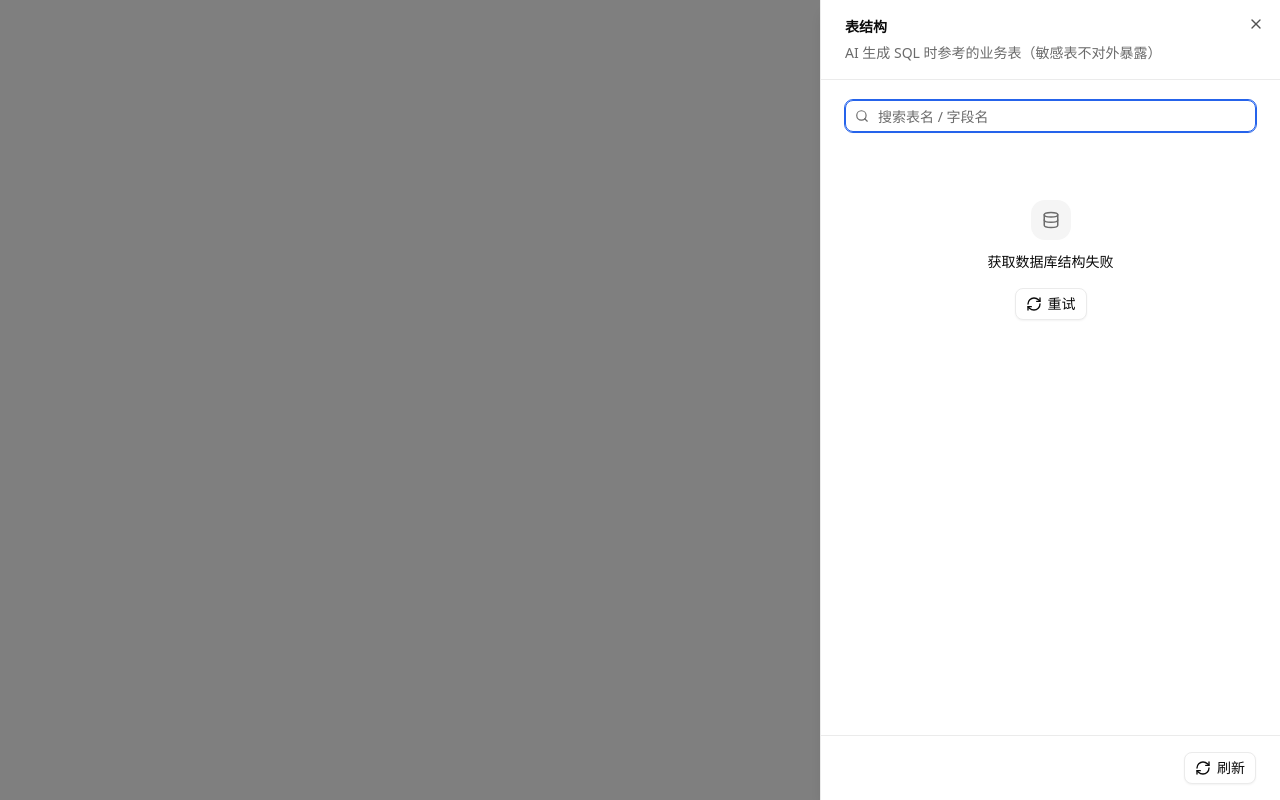
Test case: AI SQL 表结构 › 首次加载失败显示错误和重试，而不是「暂无可查询的表」；重试成功后显示表
Expected: the text "获取数据库结构失败" is shown, x1=988 y1=252 x2=1114 y2=272
Click the button "重试": point(1050, 304) x1=1014 y1=288 x2=1086 y2=320
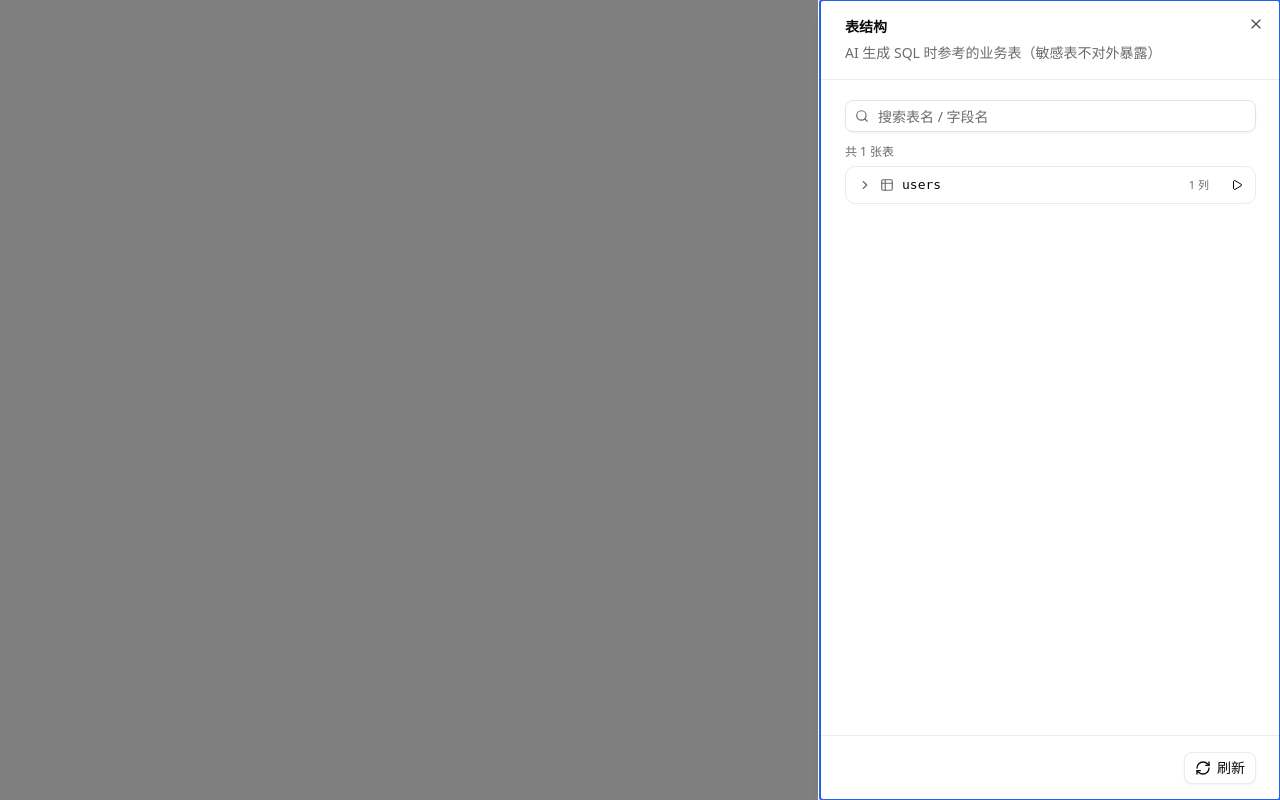
Expected: the text "users" is shown, x1=902 y1=175 x2=941 y2=194
